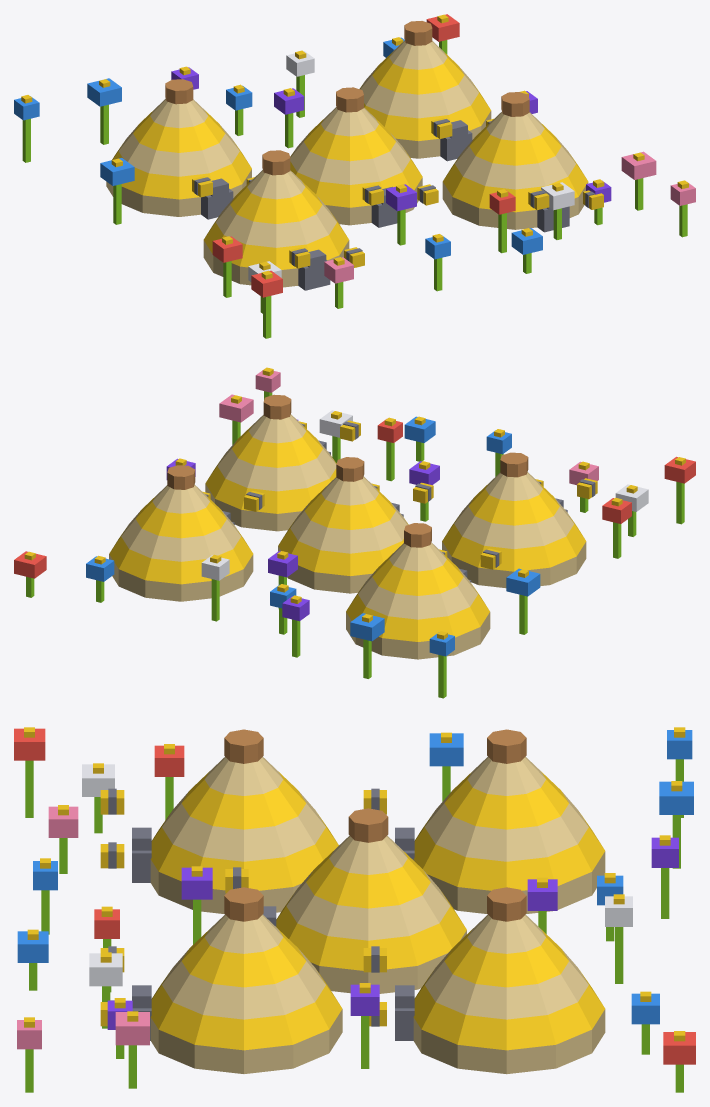
File: hive-1x1-t5.glb
The picture shows the model from 3 angles, top to bottom: view 1: azimuth 30°, elevation 25°; view 2: azimuth 150°, elevation 25°; view 3: azimuth 270°, elevation 25°; orthographic projection. The views are drawn at different scales.
Visible parts, largest first — view 1: hive-1x1-t5; view 2: hive-1x1-t5; view 3: hive-1x1-t5.
Boxes of the visible parts, box(x1,y1,x2,y2) form: hive-1x1-t5: box(14, 14, 695, 338); hive-1x1-t5: box(14, 367, 695, 698); hive-1x1-t5: box(14, 727, 695, 1092).
Size of the model in its own units: 0.9861 by 0.2185 by 0.9861.
Materials: 1 (1 with a texture image).
